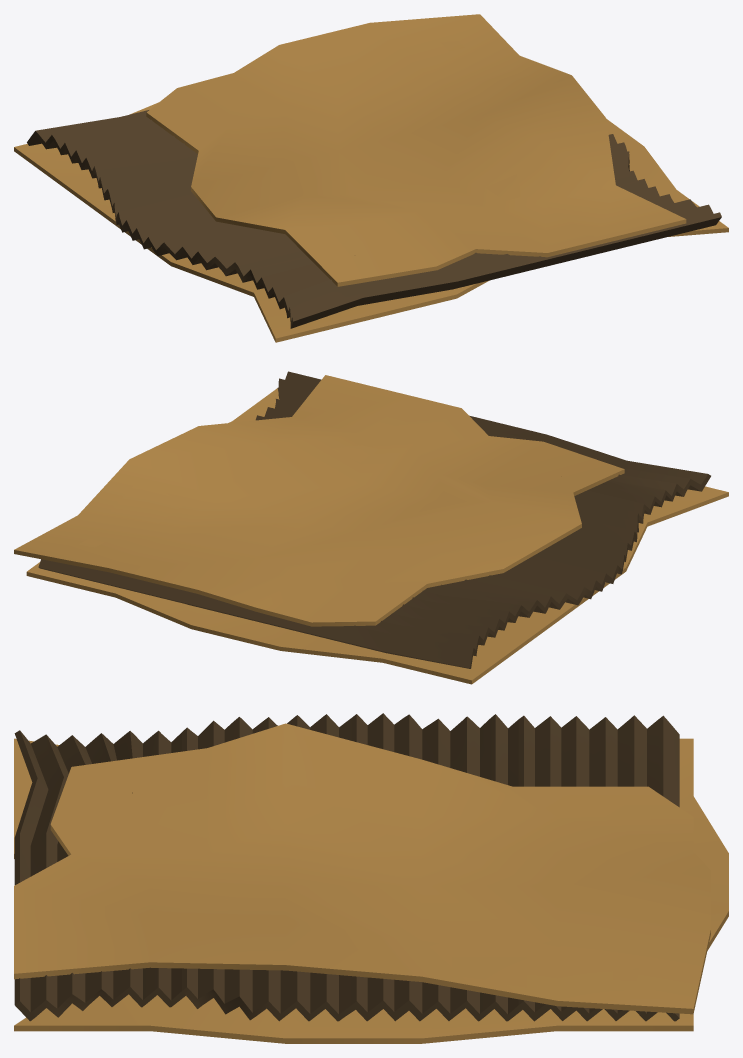
File: Cardboard3.fbx
The picture shows the model from 3 angles, top to bottom: view 1: azimuth 30°, elevation 25°; view 2: azimuth 150°, elevation 25°; view 3: azimuth 270°, elevation 25°; orthographic projection. The views are drawn at different scales.
Visible parts, largest first — view 1: Top, Middle, Bottom; view 2: Top, Middle, Bottom; view 3: Top, Middle, Bottom.
Boxes of the visible parts, x1,y1,x2,y2 form: Top: [146, 14, 686, 286]; Middle: [27, 110, 721, 328]; Bottom: [14, 102, 728, 342]; Top: [14, 375, 624, 626]; Middle: [38, 371, 710, 668]; Bottom: [26, 388, 728, 684]; Top: [14, 723, 710, 1014]; Middle: [14, 713, 679, 1021]; Bottom: [14, 738, 728, 1043].
Bounding box in the file's own units: 16.08 × 1.63 × 15.97.
